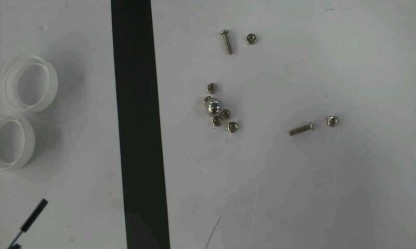ironball: (205, 97, 221, 115)
